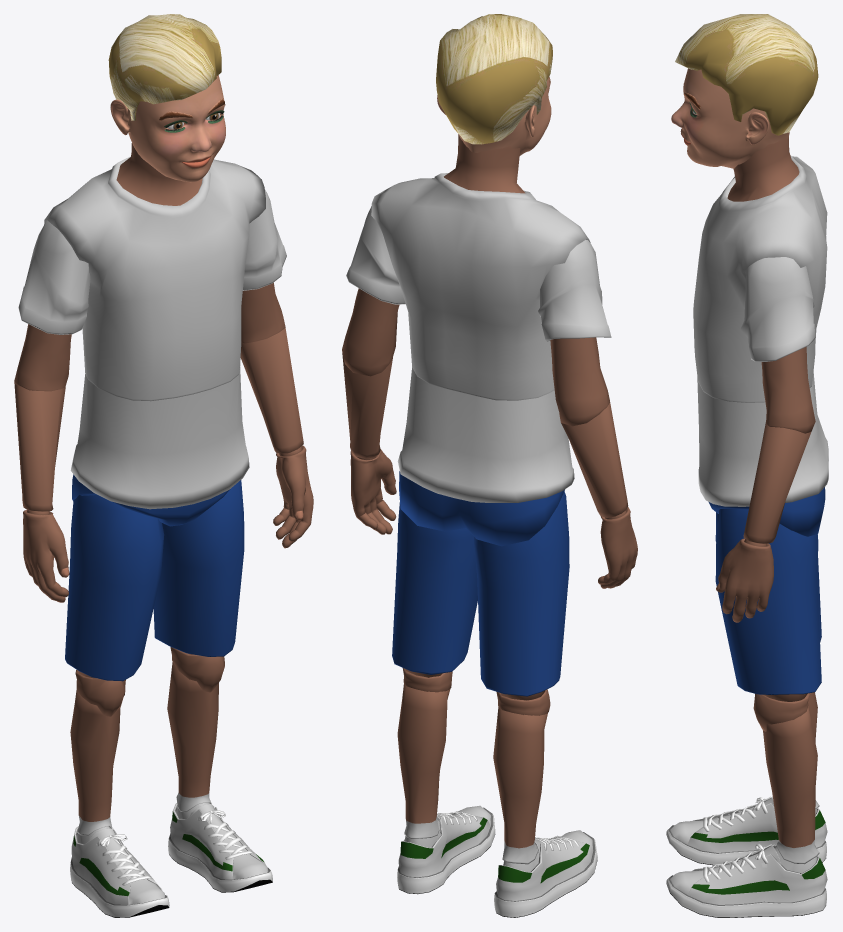
The model's file is garcon.obj.
The picture shows the model from 3 angles, left to right: view 1: azimuth 30°, elevation 25°; view 2: azimuth 150°, elevation 25°; view 3: azimuth 270°, elevation 25°; orthographic projection.
Parts seen in each view (by area): view 1: sweethome3d_mannequin_chest_chest, shirt_pelvis.001, sweethome3d_mannequin_head_head, sweethome3d_mannequin_right_thigh_rightThigh, sweethome3d_mannequin_left_thigh_leftThigh, sweethome3d_mannequin_right_arm_rightArm, sweethome3d_mannequin_right_foot_rightFoot, sweethome3d_mannequin_left_foot_leftFoot, sweethome3d_mannequin_left_leg_leftLeg, sweethome3d_mannequin_right_leg_rightLeg, sweethome3d_mannequin_right_forearm_rightForearm, sweethome3d_mannequin_left_forearm_leftForearm (+6 smaller); view 2: sweethome3d_mannequin_chest_chest, shirt_pelvis.001, sweethome3d_mannequin_right_thigh_rightThigh, sweethome3d_mannequin_head_head, sweethome3d_mannequin_left_thigh_leftThigh, sweethome3d_mannequin_right_arm_rightArm, sweethome3d_mannequin_left_arm_leftArm, sweethome3d_mannequin_right_leg_rightLeg, sweethome3d_mannequin_left_leg_leftLeg, sweethome3d_mannequin_pelvis_pelvis, sweethome3d_mannequin_right_foot_rightFoot, sweethome3d_mannequin_left_foot_leftFoot (+6 smaller); view 3: sweethome3d_mannequin_chest_chest, sweethome3d_mannequin_head_head, sweethome3d_mannequin_left_thigh_leftThigh, sweethome3d_mannequin_left_arm_leftArm, shirt_pelvis.001, sweethome3d_mannequin_left_foot_leftFoot, sweethome3d_mannequin_left_leg_leftLeg, sweethome3d_mannequin_right_foot_rightFoot, sweethome3d_mannequin_left_forearm_leftForearm, sweethome3d_mannequin_left_hand_leftHand, sweethome3d_mannequin_pelvis_pelvis, sweethome3d_mannequin_left_knee_leftKnee.
Part boxes in pixels (x1=…): sweethome3d_mannequin_chest_chest: x1=44, y1=143, x2=265, y2=401; shirt_pelvis.001: x1=70, y1=366, x2=249, y2=509; sweethome3d_mannequin_head_head: x1=108, y1=14, x2=225, y2=182; sweethome3d_mannequin_right_thigh_rightThigh: x1=65, y1=495, x2=164, y2=681; sweethome3d_mannequin_left_thigh_leftThigh: x1=153, y1=480, x2=244, y2=656; sweethome3d_mannequin_right_arm_rightArm: x1=14, y1=220, x2=90, y2=391; sweethome3d_mannequin_right_foot_rightFoot: x1=70, y1=826, x2=169, y2=917; sweethome3d_mannequin_left_foot_leftFoot: x1=168, y1=802, x2=272, y2=892; sweethome3d_mannequin_left_leg_leftLeg: x1=167, y1=662, x2=218, y2=812; sweethome3d_mannequin_right_leg_rightLeg: x1=70, y1=690, x2=123, y2=835; sweethome3d_mannequin_right_forearm_rightForearm: x1=14, y1=384, x2=65, y2=511; sweethome3d_mannequin_left_forearm_leftForearm: x1=240, y1=328, x2=303, y2=453; sweethome3d_mannequin_chest_chest: x1=371, y1=134, x2=590, y2=400; shirt_pelvis.001: x1=397, y1=367, x2=574, y2=502; sweethome3d_mannequin_right_thigh_rightThigh: x1=474, y1=491, x2=569, y2=700; sweethome3d_mannequin_head_head: x1=436, y1=14, x2=552, y2=155; sweethome3d_mannequin_left_thigh_leftThigh: x1=392, y1=502, x2=477, y2=677; sweethome3d_mannequin_right_arm_rightArm: x1=538, y1=240, x2=611, y2=426; sweethome3d_mannequin_left_arm_leftArm: x1=342, y1=206, x2=405, y2=376; sweethome3d_mannequin_right_leg_rightLeg: x1=493, y1=707, x2=547, y2=864; sweethome3d_mannequin_left_leg_leftLeg: x1=397, y1=684, x2=450, y2=838; sweethome3d_mannequin_pelvis_pelvis: x1=399, y1=471, x2=564, y2=546; sweethome3d_mannequin_right_foot_rightFoot: x1=494, y1=830, x2=597, y2=917; sweethome3d_mannequin_left_foot_leftFoot: x1=397, y1=805, x2=495, y2=894; sweethome3d_mannequin_chest_chest: x1=693, y1=137, x2=827, y2=402; sweethome3d_mannequin_head_head: x1=671, y1=14, x2=818, y2=168; sweethome3d_mannequin_left_thigh_leftThigh: x1=715, y1=509, x2=821, y2=701; sweethome3d_mannequin_left_arm_leftArm: x1=740, y1=257, x2=815, y2=433; shirt_pelvis.001: x1=697, y1=372, x2=828, y2=506; sweethome3d_mannequin_left_foot_leftFoot: x1=666, y1=843, x2=827, y2=917; sweethome3d_mannequin_left_leg_leftLeg: x1=763, y1=706, x2=819, y2=864; sweethome3d_mannequin_right_foot_rightFoot: x1=666, y1=796, x2=827, y2=865; sweethome3d_mannequin_left_forearm_leftForearm: x1=743, y1=422, x2=811, y2=543; sweethome3d_mannequin_left_hand_leftHand: x1=716, y1=538, x2=773, y2=622; sweethome3d_mannequin_pelvis_pelvis: x1=708, y1=487, x2=825, y2=536; sweethome3d_mannequin_left_knee_leftKnee: x1=753, y1=693, x2=810, y2=731.
Bounding box in the file's own units: 53.92 × 160 × 27.3.
